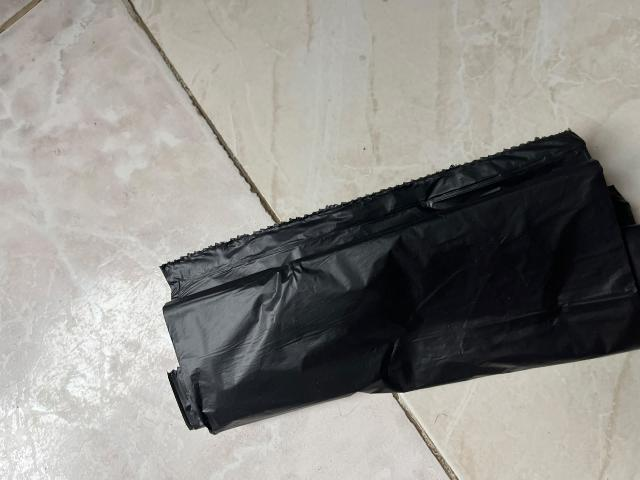LDPE: (152, 154, 636, 423)
